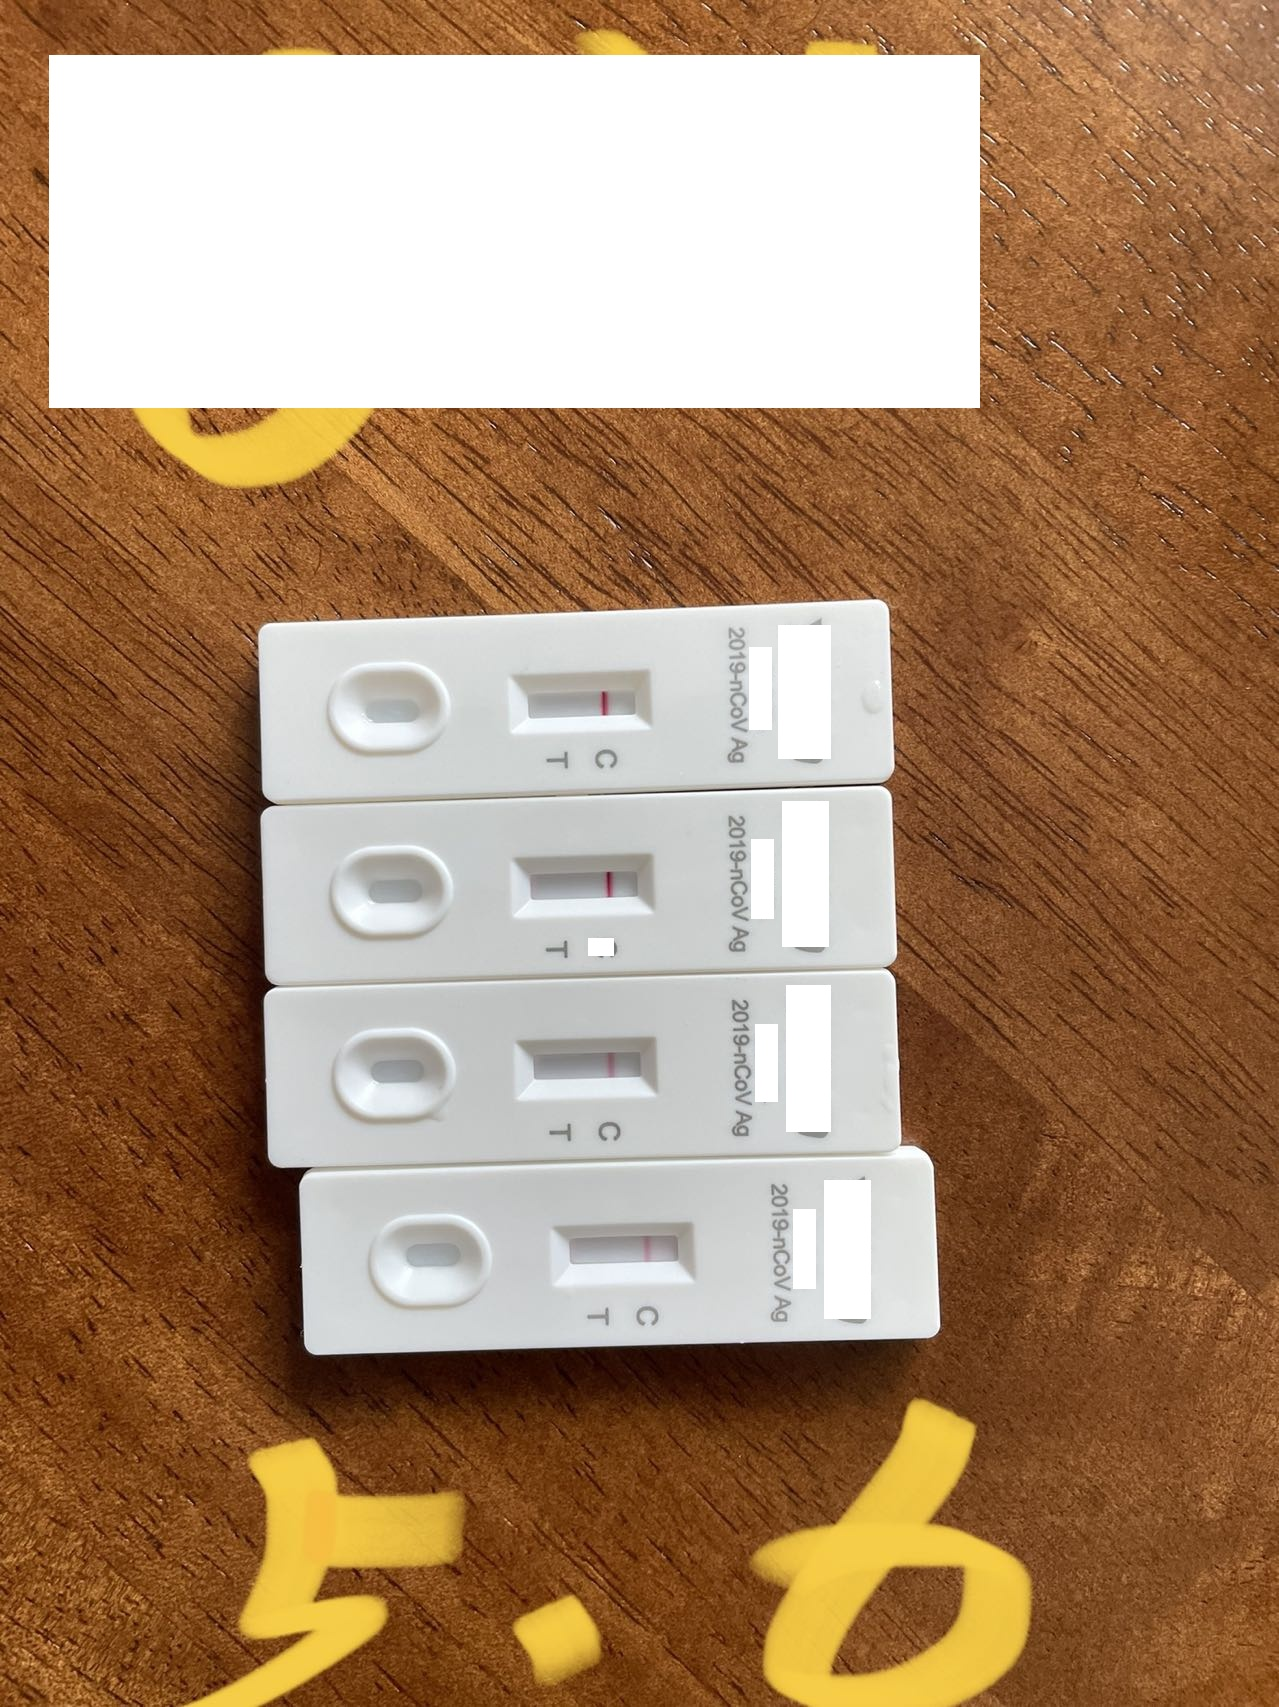negative: (515, 1033, 664, 1100), (549, 1218, 701, 1284), (511, 849, 661, 915), (508, 667, 654, 727)
